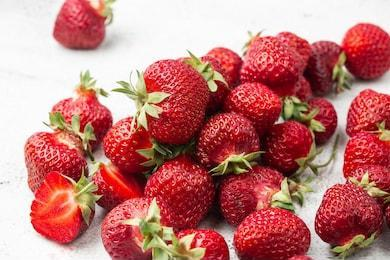Fresa: (132, 56, 212, 150), (139, 148, 221, 232), (20, 126, 94, 201), (313, 180, 385, 253), (99, 195, 178, 260), (233, 203, 314, 260), (195, 108, 264, 174), (47, 90, 112, 159), (223, 79, 283, 139), (49, 1, 112, 53), (344, 86, 390, 138)
